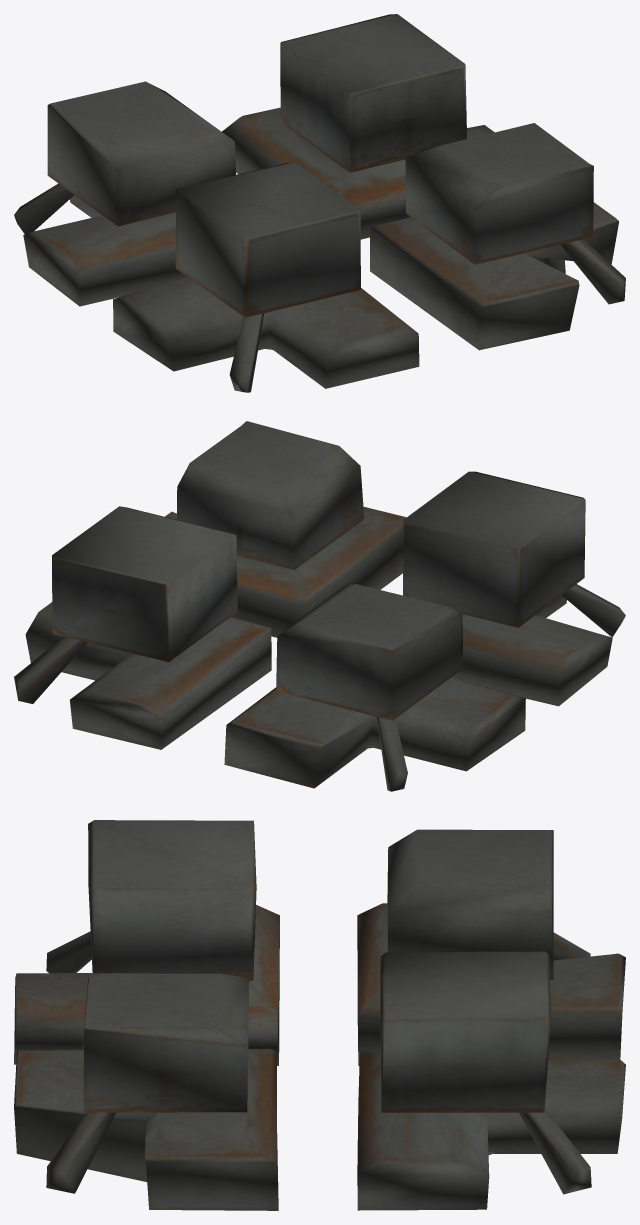
The picture shows the model from 3 angles, top to bottom: view 1: azimuth 30°, elevation 25°; view 2: azimuth 150°, elevation 25°; view 3: azimuth 270°, elevation 25°; orthographic projection. The views are drawn at different scales.
Bounding box in the file's own units: 2 × 0.6 × 2.
1 material, 1 textured.
